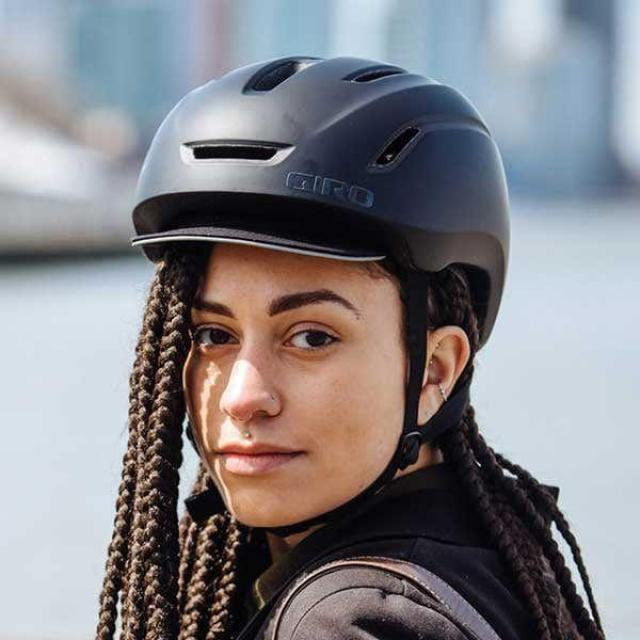Helmet: (130, 52, 512, 524)
